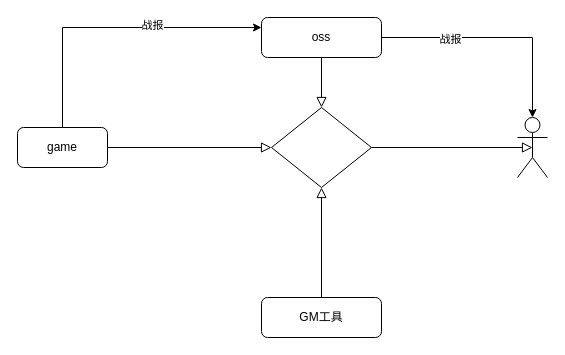
This 565x355 diagram has some shape labels left out. The centre of each missing label's shape, as x and y in pixels:
玩家: pixel 532 147
邮件sdk 刘博平: pixel 321 147
